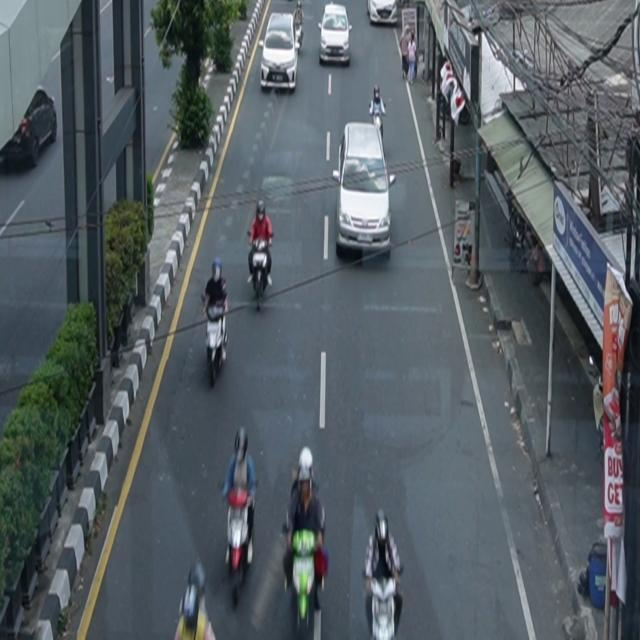car: (333, 122, 397, 257), (260, 13, 299, 93), (318, 4, 353, 67), (367, 1, 398, 26)
